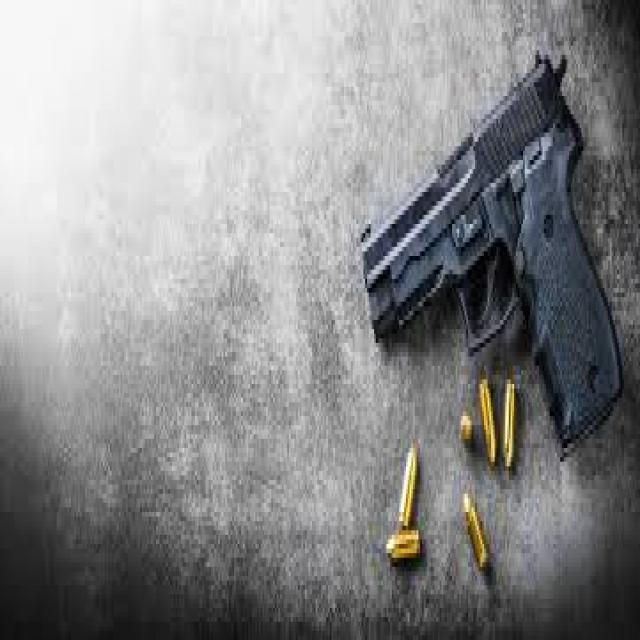gun: (354, 41, 630, 539)
